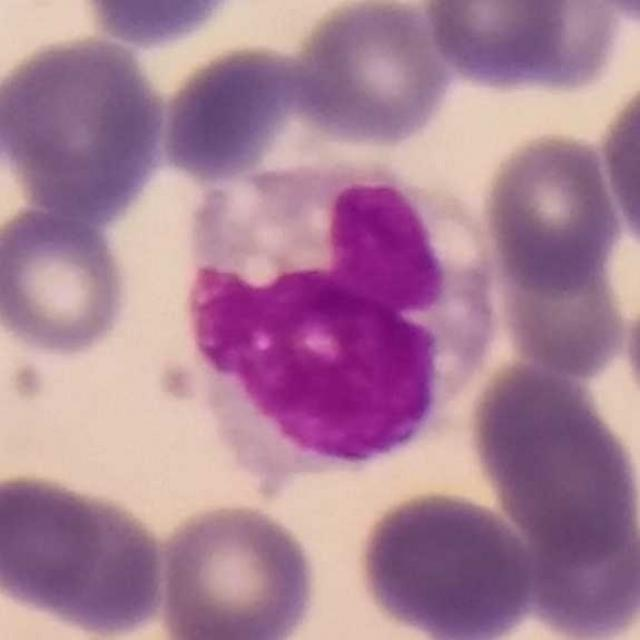Monocyte: (174, 148, 500, 480)
RBC: (466, 358, 640, 562), (1, 30, 173, 227), (349, 486, 540, 640), (0, 471, 171, 640), (284, 1, 457, 151), (478, 127, 624, 297), (153, 498, 322, 640), (157, 40, 310, 186), (492, 224, 630, 380), (0, 203, 136, 359), (520, 496, 640, 640), (418, 0, 590, 95), (493, 0, 638, 96), (69, 0, 249, 50), (595, 68, 640, 258)
